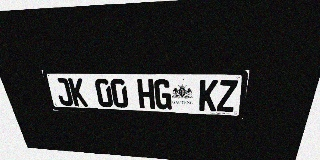0: (94, 78, 114, 107), (110, 79, 129, 108)
G: (154, 79, 172, 110)
H: (137, 79, 155, 109)
J: (53, 78, 74, 106)
K: (199, 80, 218, 111), (68, 78, 88, 106)
Z: (217, 80, 238, 112)
